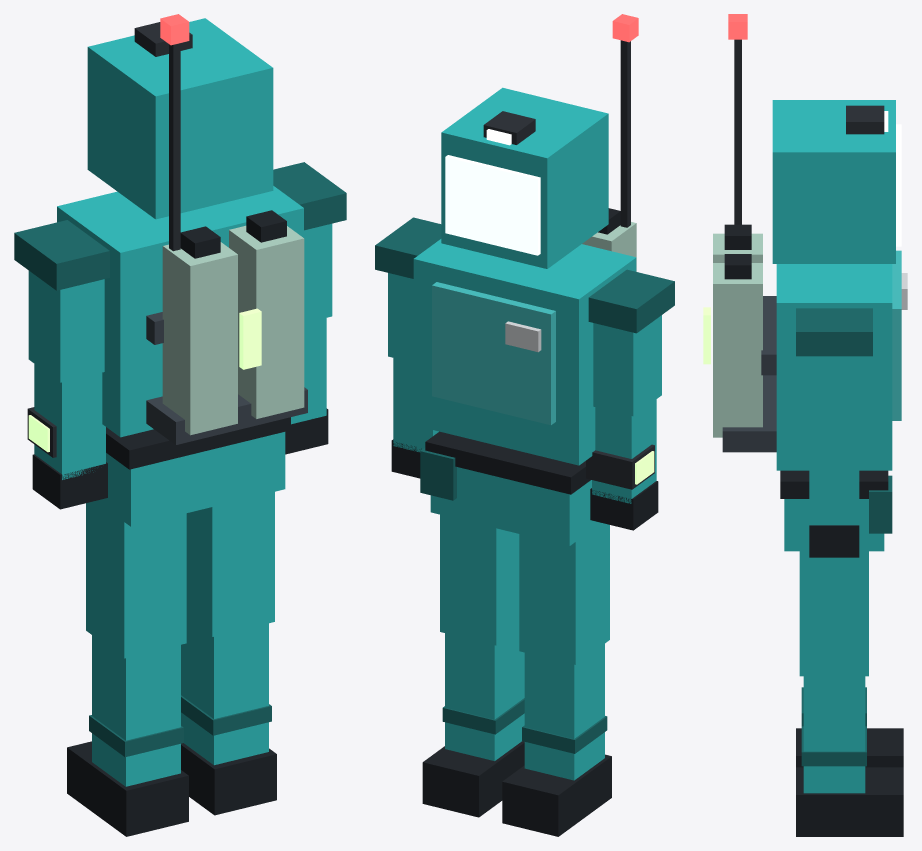
The model's file is bio_tech_teal.glb.
The picture shows the model from 3 angles, left to right: view 1: azimuth 30°, elevation 25°; view 2: azimuth 150°, elevation 25°; view 3: azimuth 270°, elevation 25°; orthographic projection. The views are drawn at different scales.
Visible parts, largest first — view 1: Merged6, Merged, Merged7, Merged8, Merged9, _MeshInstance3D_2423, Merged3, _MeshInstance3D_2434, Merged2, Merged5, Merged4; view 2: Merged6, Merged, Merged7, Merged8, Merged9, _MeshInstance3D_2423, Merged3, _MeshInstance3D_2434, Merged2, Merged5, Merged4; view 3: Merged6, Merged, Merged8, Merged5, _MeshInstance3D_2434, Merged4, Merged9, Merged7.
Boxes of the visible parts, left/top/right/bottom form: Merged6: left=57, top=14, right=307, bottom=444; Merged: left=87, top=18, right=273, bottom=219; Merged7: left=67, top=635, right=188, bottom=836; Merged8: left=181, top=618, right=276, bottom=815; Merged9: left=96, top=417, right=290, bottom=526; _MeshInstance3D_2423: left=86, top=501, right=186, bottom=658; Merged3: left=14, top=220, right=109, bottom=382; _MeshInstance3D_2434: left=186, top=492, right=274, bottom=636; Merged2: left=27, top=364, right=107, bottom=509; Merged5: left=273, top=162, right=346, bottom=322; Merged4: left=285, top=318, right=328, bottom=454; Merged6: left=413, top=14, right=638, bottom=465; Merged: left=441, top=87, right=608, bottom=268; Merged7: left=502, top=644, right=611, bottom=836; Merged8: left=422, top=629, right=524, bottom=817; Merged9: left=420, top=431, right=600, bottom=545; _MeshInstance3D_2423: left=519, top=523, right=609, bottom=664; Merged3: left=588, top=269, right=674, bottom=416; _MeshInstance3D_2434: left=440, top=514, right=519, bottom=645; Merged2: left=586, top=399, right=658, bottom=530; Merged5: left=375, top=217, right=441, bottom=362; Merged4: left=391, top=358, right=438, bottom=478; Merged6: left=703, top=14, right=907, bottom=470; Merged: left=772, top=100, right=901, bottom=263; Merged8: left=796, top=676, right=903, bottom=836; Merged5: left=796, top=308, right=872, bottom=441; _MeshInstance3D_2434: left=799, top=551, right=868, bottom=676; Merged4: left=809, top=441, right=859, bottom=557; Merged9: left=780, top=470, right=892, bottom=551; Merged7: left=796, top=687, right=903, bottom=767.
Size of the model in its own units: 0.79 by 2.18 by 0.53.
